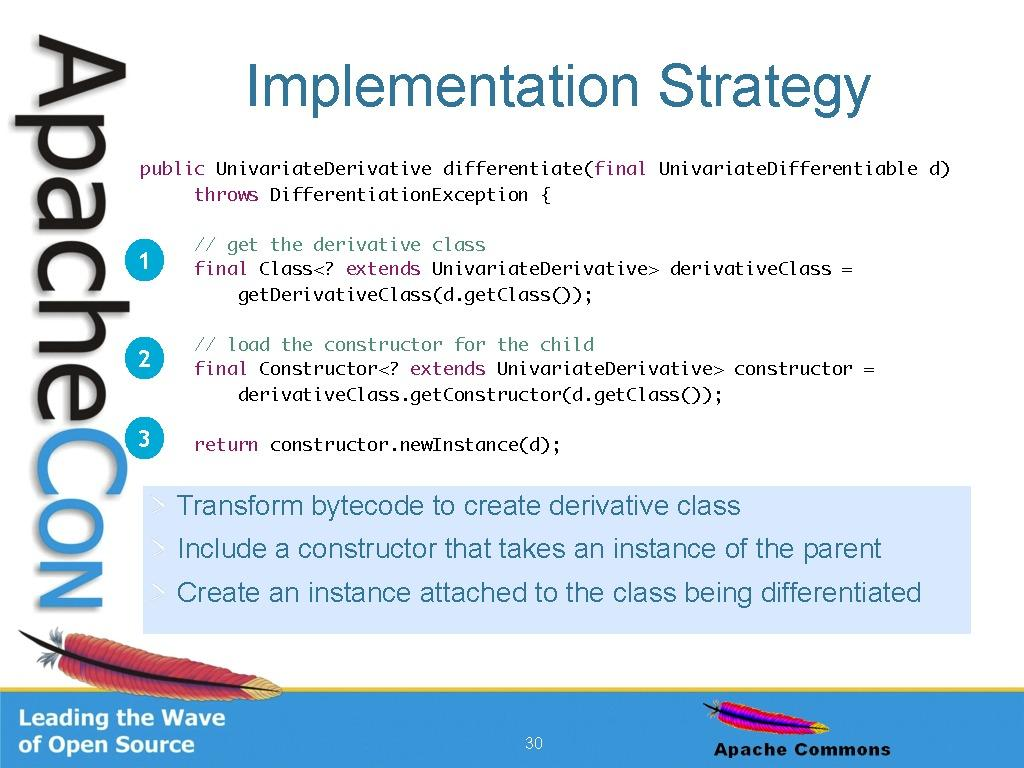paragraph: (127, 152, 981, 637)
subtitle: (2, 698, 1024, 768)
title: (213, 39, 888, 132)
